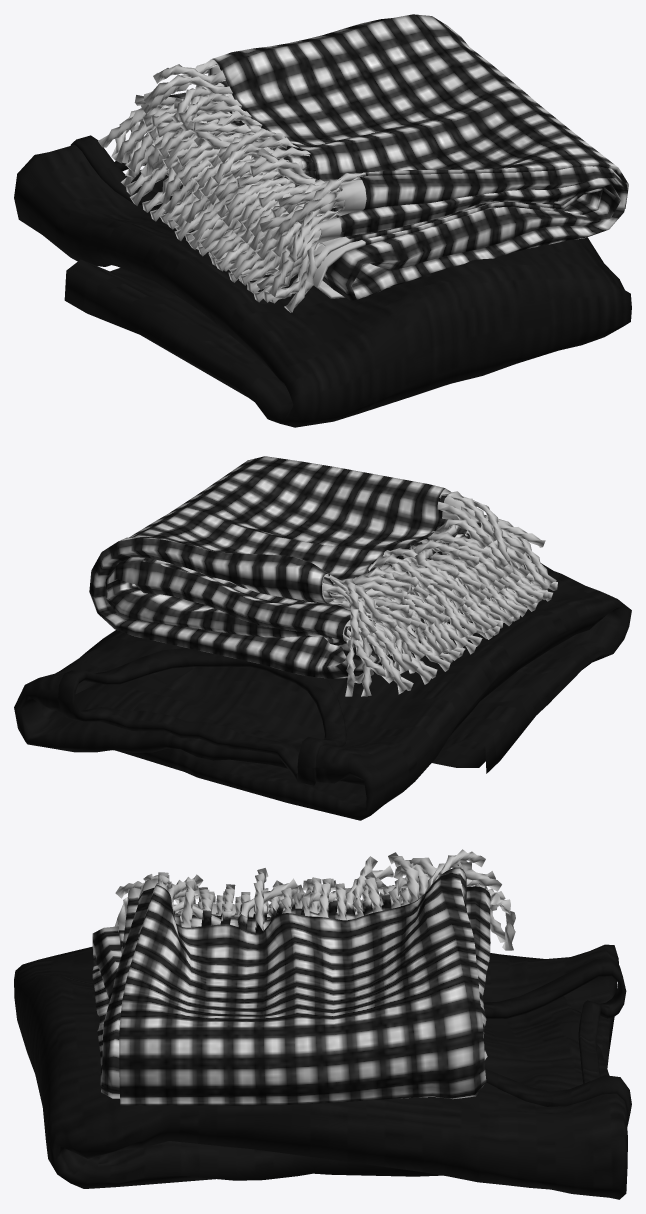
Rendered from Clothes_acc_02.glb.
The picture shows the model from 3 angles, top to bottom: view 1: azimuth 30°, elevation 25°; view 2: azimuth 150°, elevation 25°; view 3: azimuth 270°, elevation 25°; orthographic projection. The views are drawn at different scales.
Visible parts, largest first — view 1: BP_Clothes_acc_02; view 2: BP_Clothes_acc_02; view 3: BP_Clothes_acc_02.
Boxes of the visible parts, bbox=[...] form: BP_Clothes_acc_02: bbox=[14, 14, 631, 427]; BP_Clothes_acc_02: bbox=[14, 456, 631, 820]; BP_Clothes_acc_02: bbox=[14, 849, 631, 1199].
Bounding box in the file's own units: 0.3197 × 0.1446 × 0.3781.
Materials: 3 (3 with a texture image).
